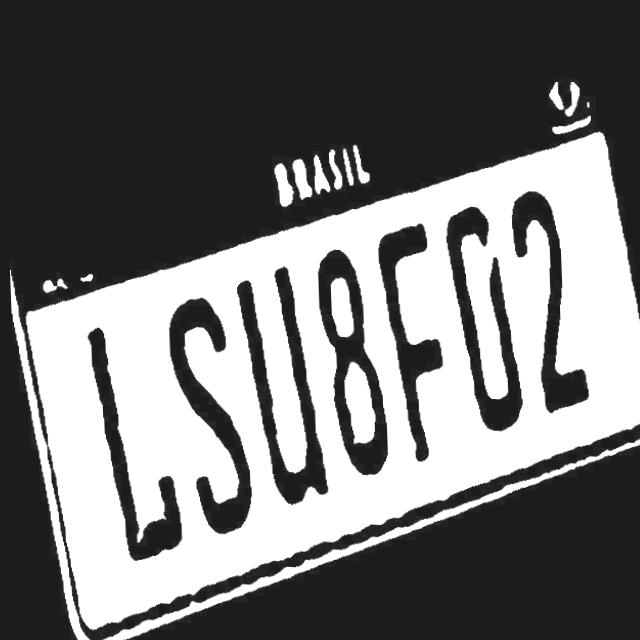0: (433, 201, 524, 428)
2: (502, 184, 587, 409)
8: (312, 238, 396, 469)
f: (379, 216, 452, 465)
l: (82, 320, 181, 563)
s: (159, 292, 254, 537)
u: (233, 260, 330, 509)
